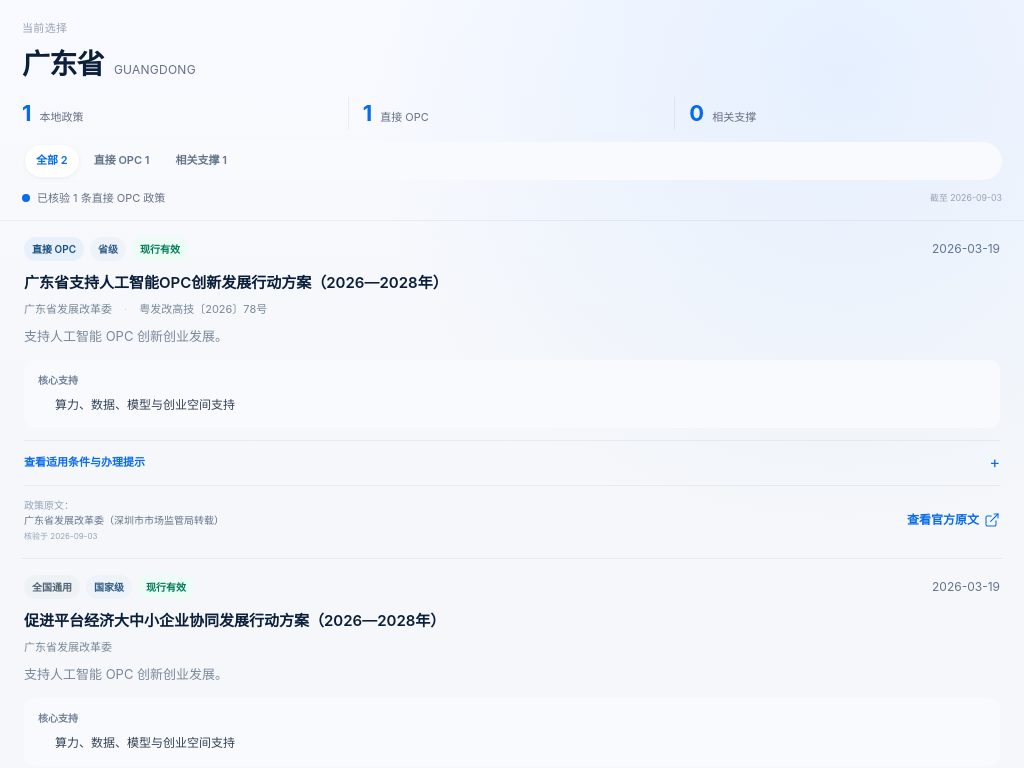
Test: PolicyDrawer › filters between direct OPC and related support policies
Click the button "直接 OPC 1": (122, 160) [83,144,160,176]
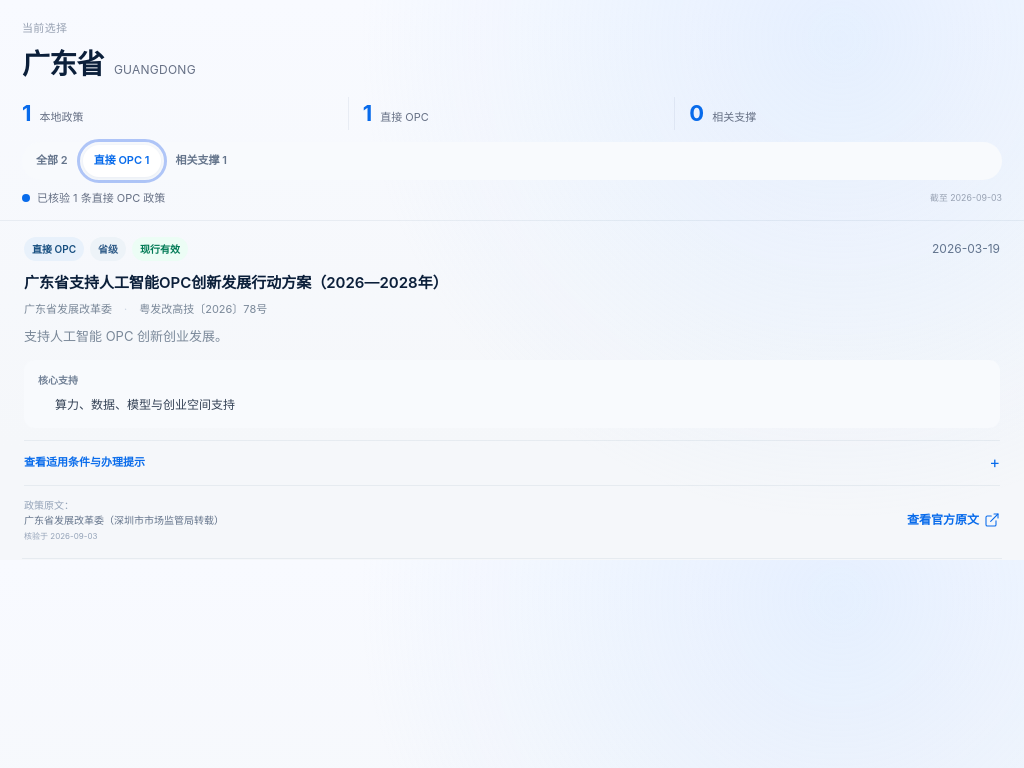
Check: the heading "广东省支持人工智能OPC创新发展行动方案（2026—2028年）" is shown, box [24,273,448,292]
Check: the heading "促进平台经济大中小企业协同发展行动方案（2026—2028年）" is gone
Click the button "相关支撑 1": (201, 160) [164,144,238,176]
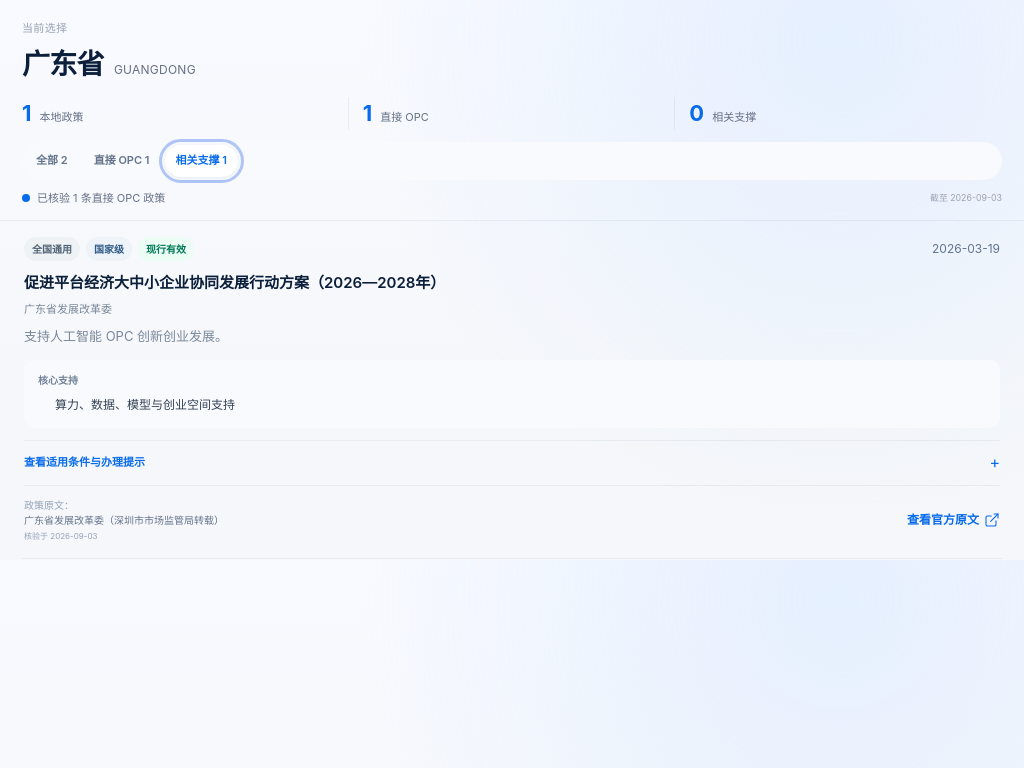
Check: the heading "广东省支持人工智能OPC创新发展行动方案（2026—2028年）" is gone
Check: the heading "促进平台经济大中小企业协同发展行动方案（2026—2028年）" is shown, box [24,273,445,292]
